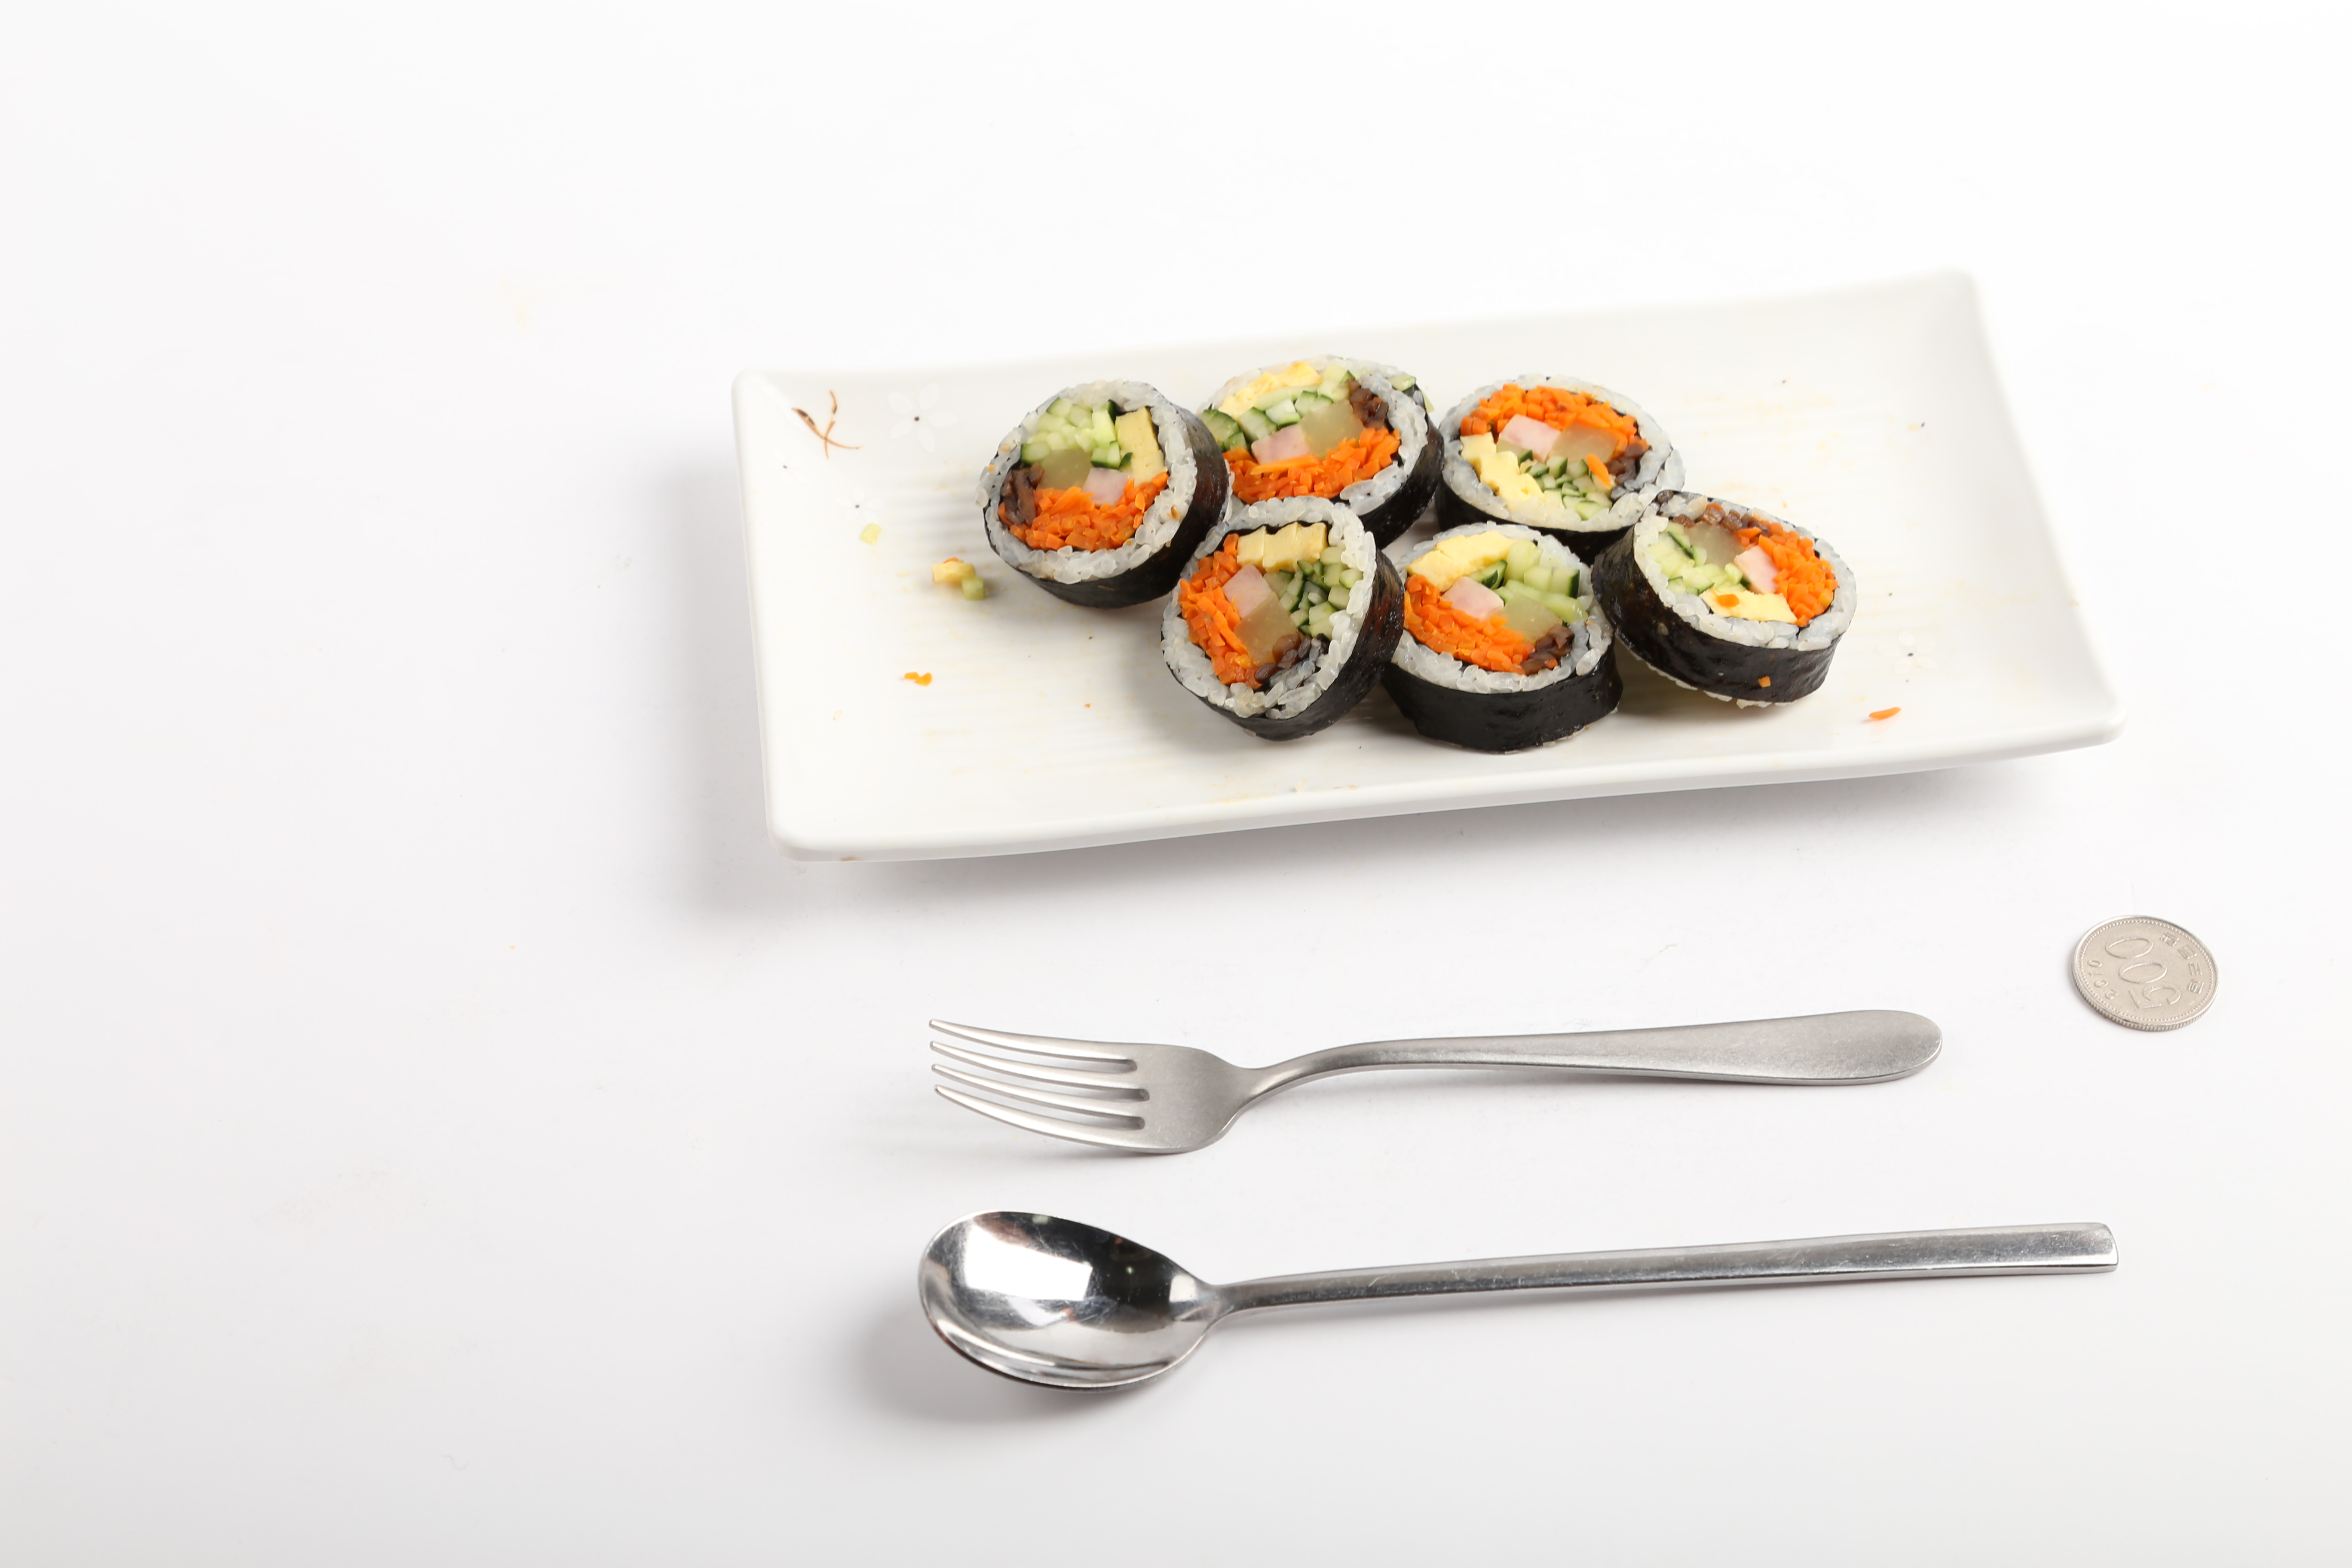dish: (733, 254, 2130, 852)
ref_coin: (2065, 912, 2226, 1032)
ref_fork: (927, 1003, 1342, 1157)
ref_spoon: (915, 1207, 1333, 1393)
김밥: (980, 346, 1858, 754)
